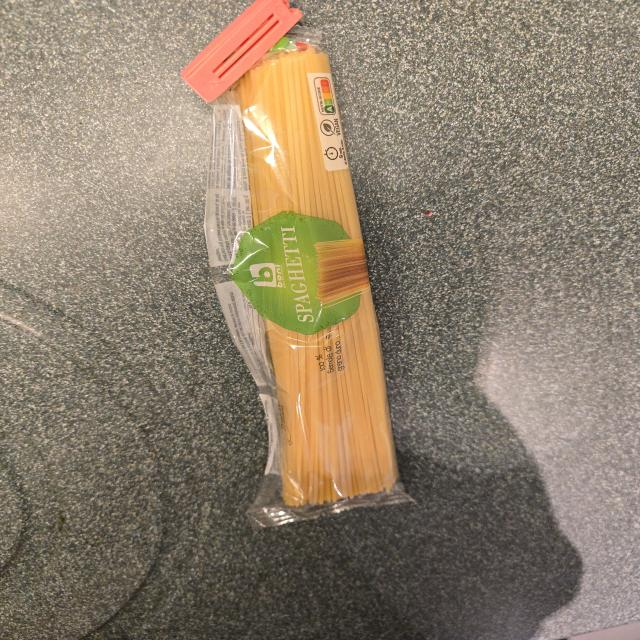Pasta: (214, 38, 414, 527)
